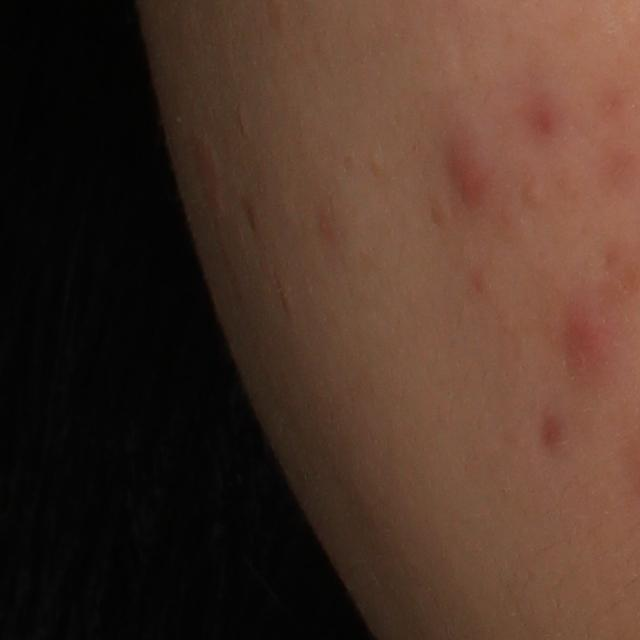comedo: (520, 178, 546, 208)
papule: (572, 310, 604, 377)
